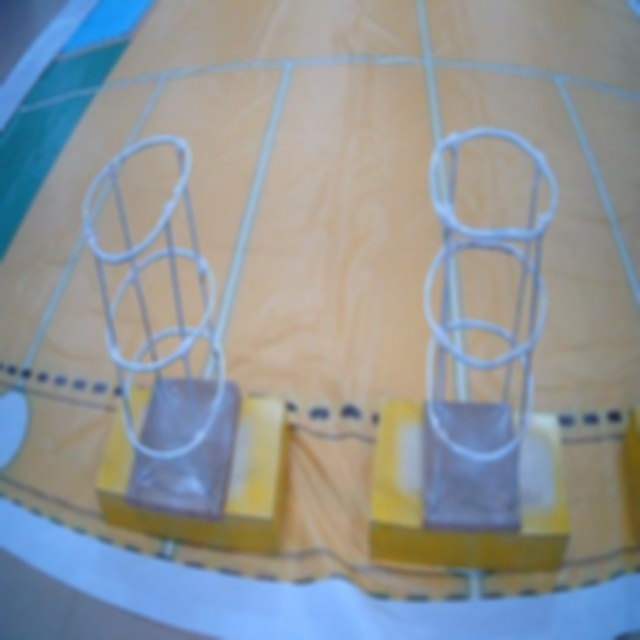silo: (78, 140, 230, 512), (428, 132, 557, 530)
